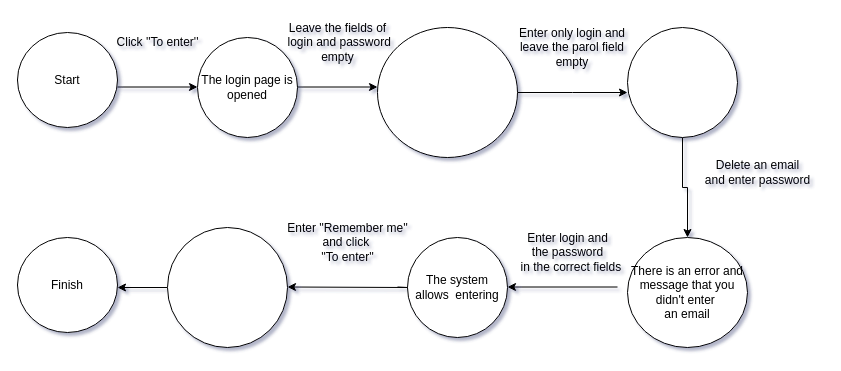
Some shapes in this 841 by 371 pixel diagram are drawn without their labels. Each missing label, with the centre of its shape:
"The user opens the ''My account'' of site exdrive.com.ua" goes at (x=227, y=287).
"There is an error and message that you didn't enter login and the password" goes at (x=447, y=92).
"There is an error and message that you didn't enter the password" goes at (x=682, y=82).
